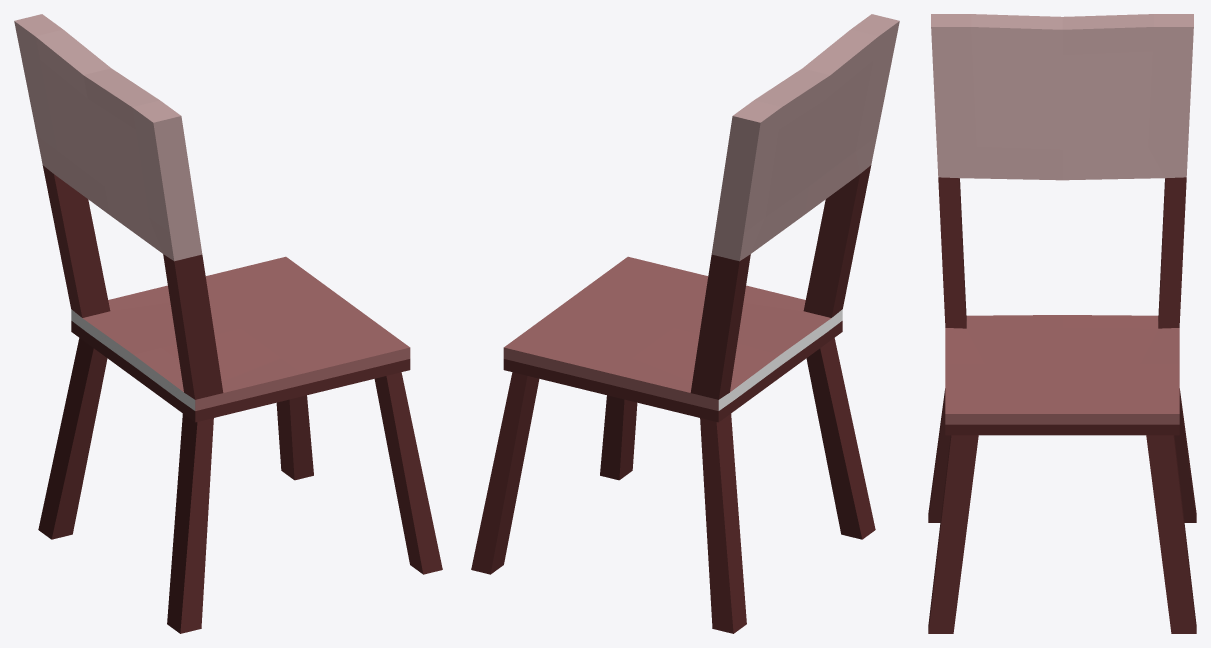
File: Chair.fbx
The picture shows the model from 3 angles, left to right: view 1: azimuth 30°, elevation 25°; view 2: azimuth 150°, elevation 25°; view 3: azimuth 270°, elevation 25°; orthographic projection. The views are drawn at different scales.
Parts seen in each view (by area): view 1: Chair; view 2: Chair; view 3: Chair.
Boxes of the visible parts, <box> form: Chair: <box>14,14,442,633</box>; Chair: <box>471,14,899,633</box>; Chair: <box>928,14,1196,633</box>.
Bounding box in the file's own units: 0.3925 × 0.6714 × 0.3348.
